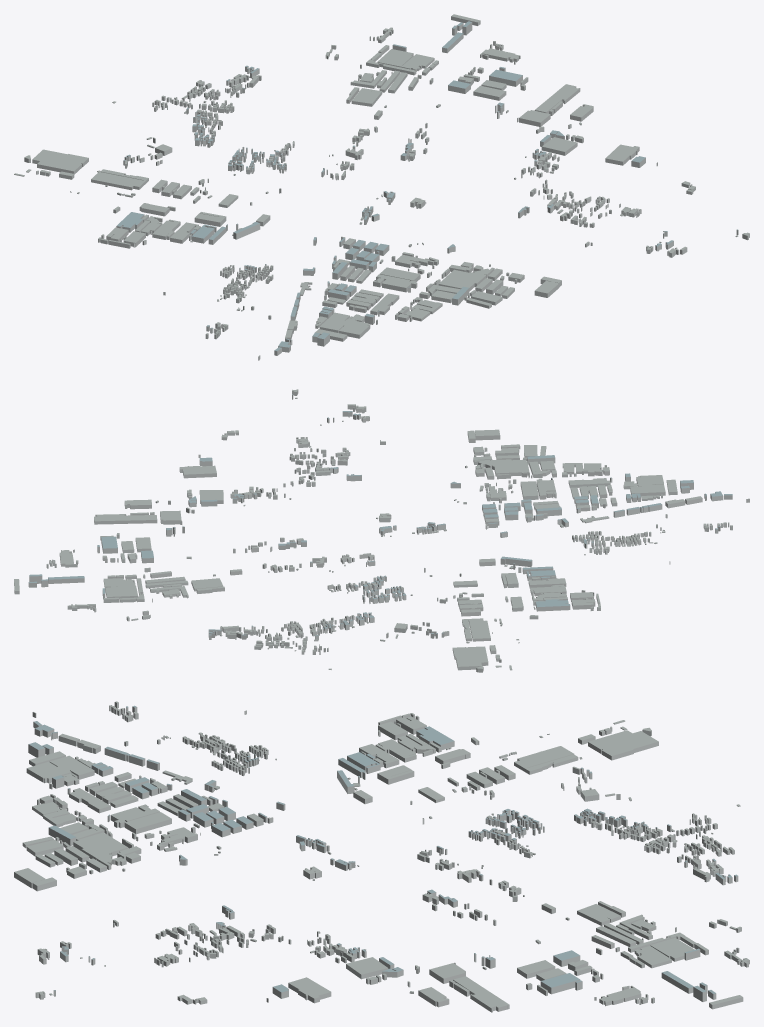
The model's file is far.glb.
3 renders of one model, top to bottom at view 1: azimuth 30°, elevation 25°; view 2: azimuth 150°, elevation 25°; view 3: azimuth 270°, elevation 25°, orthographic. The views are drawn at different scales.
Size of the model in its own units: 2142 by 31.96 by 2177.
